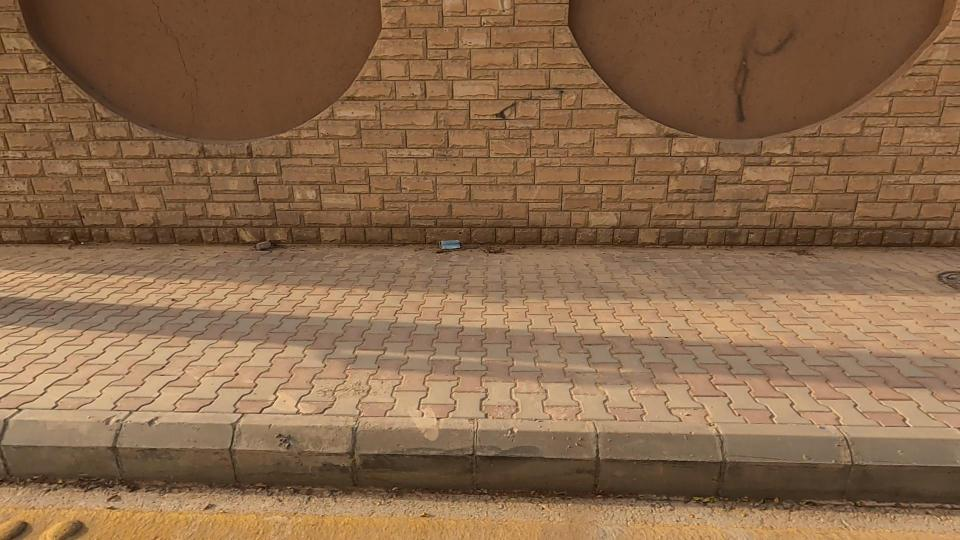GARBAGE: (411, 208, 483, 278)
